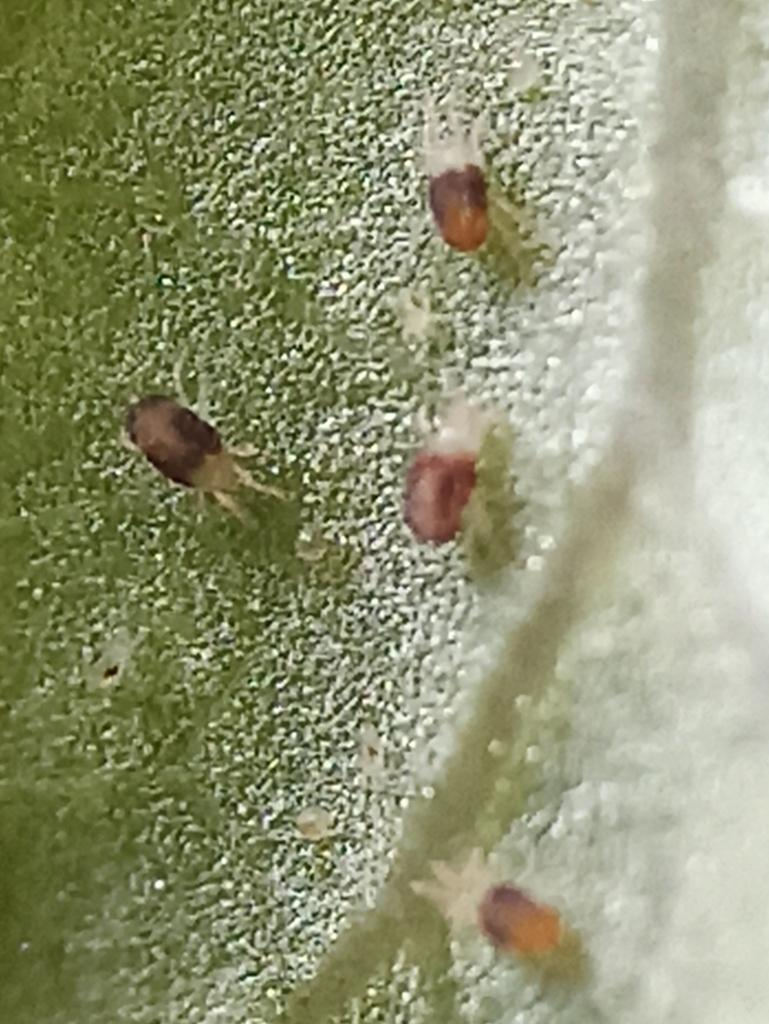tiny_pests: (354, 341, 549, 606), (361, 63, 557, 306), (91, 354, 294, 551), (399, 820, 600, 994)
